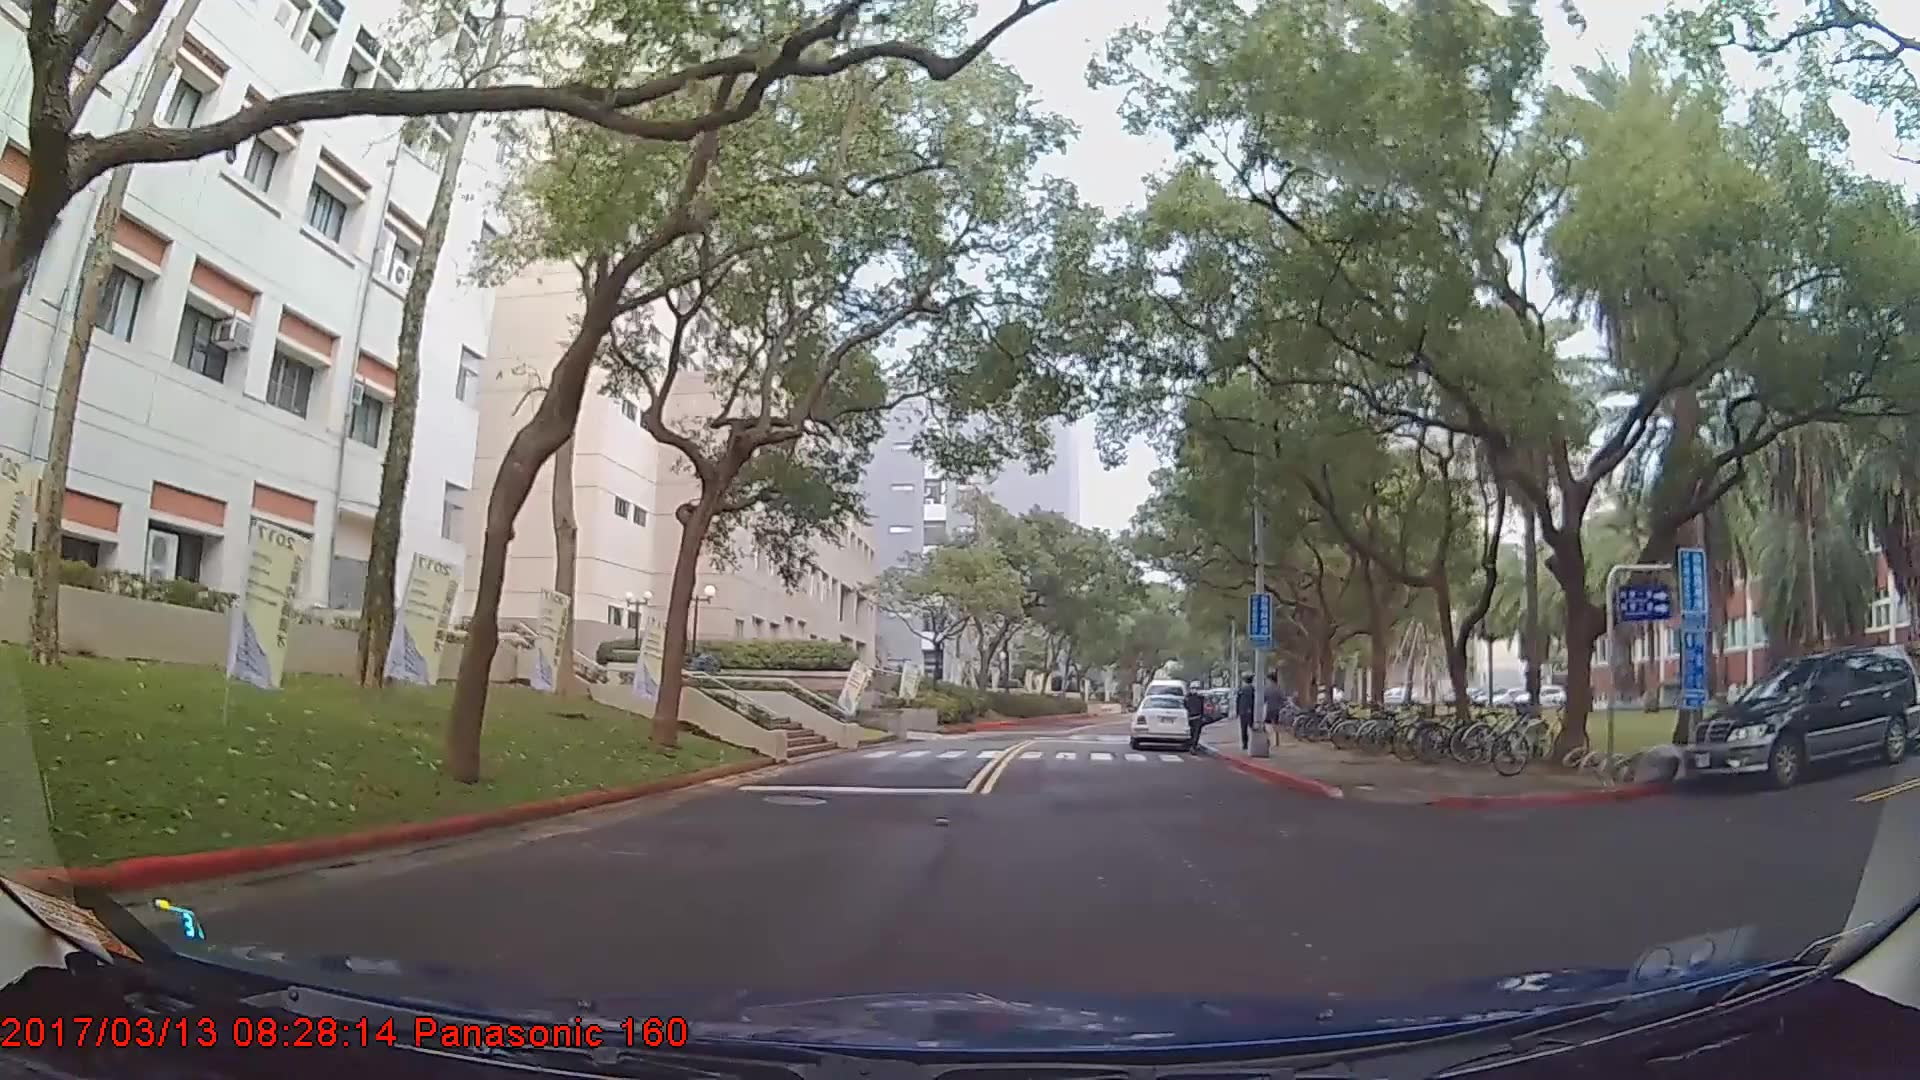pedestrian: (1237, 680, 1263, 753), (1182, 680, 1205, 755)
vehicle: (1680, 643, 1917, 790), (1127, 690, 1195, 748)
